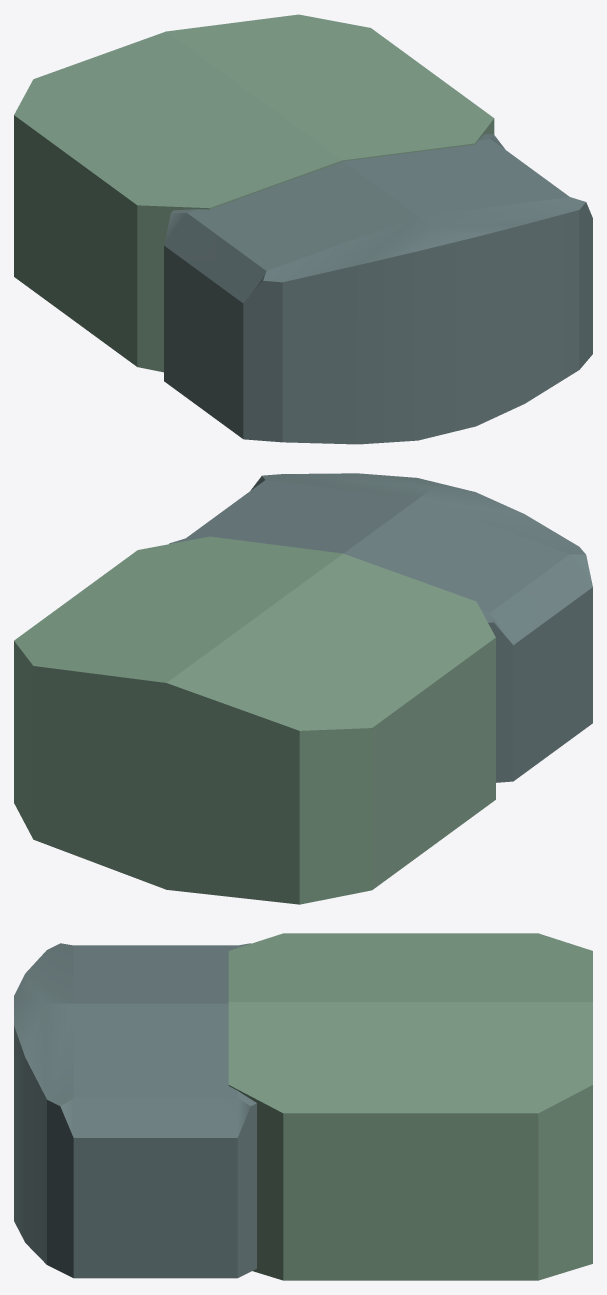
The model's file is smSnekJoint.fbx.
3 renders of one model, top to bottom at view 1: azimuth 30°, elevation 25°; view 2: azimuth 150°, elevation 25°; view 3: azimuth 270°, elevation 25°, orthographic. The views are drawn at different scales.
Parts seen in each view (by area): view 1: smSnekJoint; view 2: smSnekJoint; view 3: smSnekJoint.
Boxes of the visible parts, x1=… form: smSnekJoint: x1=14, y1=14, x2=592, y2=444; smSnekJoint: x1=14, y1=473, x2=592, y2=904; smSnekJoint: x1=14, y1=933, x2=592, y2=1280.
Size of the model in its own units: 21.04 by 11.61 by 28.59.
